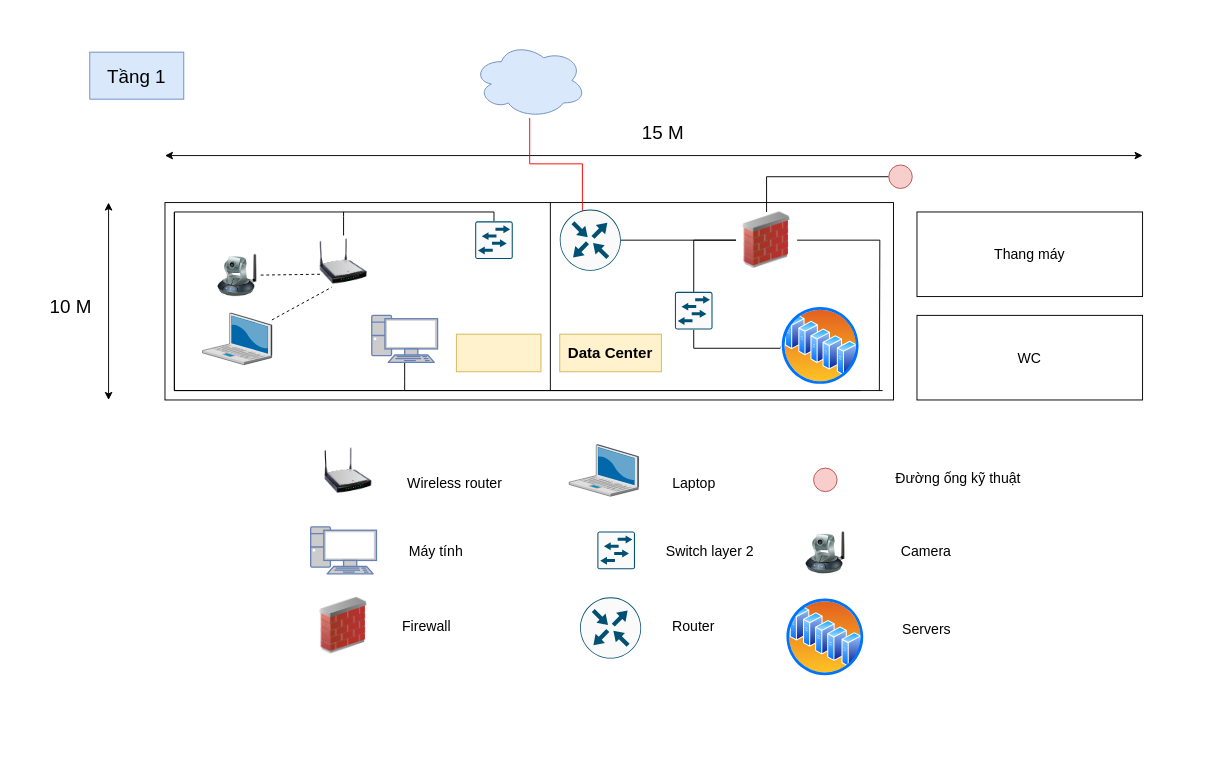
Image size: 1205x775. Some labels were removed from this diagram. Here are the shapes that lost their labels. From the top down, the centre of each, then its label:
[529,80]: INTERNET
[498,352]: IT
